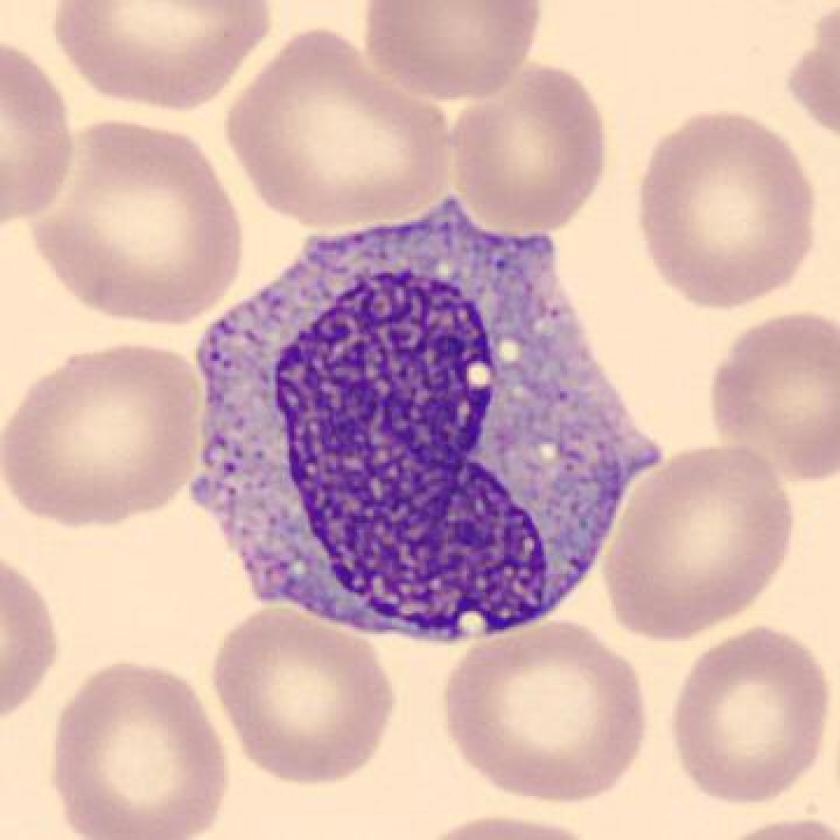monocyte: (167, 186, 678, 663)
